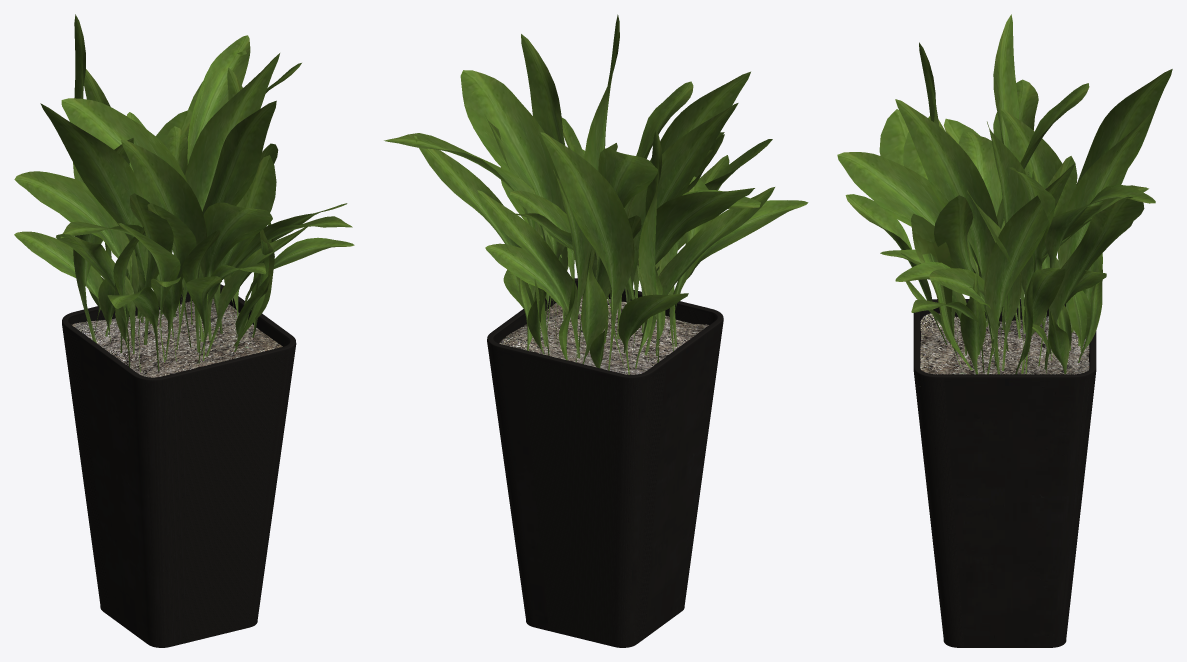
File: plant_tree_s1_snowism.glb
3 renders of one model, left to right at view 1: azimuth 30°, elevation 25°; view 2: azimuth 150°, elevation 25°; view 3: azimuth 270°, elevation 25°, orthographic.
Visible parts, largest first — view 1: Mesh1_M_06___Default_0, Mesh3_grt_0, Mesh2_TEXTURE1_0; view 2: Mesh3_grt_0, Mesh1_M_06___Default_0, Mesh2_TEXTURE1_0; view 3: Mesh3_grt_0, Mesh1_M_06___Default_0, Mesh2_TEXTURE1_0.
Boxes of the visible parts, box(x1,y1,x2,y2) form: Mesh1_M_06___Default_0: box(62, 284, 296, 647); Mesh3_grt_0: box(14, 14, 354, 372); Mesh2_TEXTURE1_0: box(72, 298, 293, 377); Mesh3_grt_0: box(384, 14, 808, 374); Mesh1_M_06___Default_0: box(487, 278, 723, 647); Mesh2_TEXTURE1_0: box(499, 295, 708, 374); Mesh3_grt_0: box(837, 14, 1172, 374); Mesh1_M_06___Default_0: box(913, 299, 1096, 647); Mesh2_TEXTURE1_0: box(919, 313, 1089, 386).
Size of the model in its own units: 6.72 by 11.69 by 6.51.
3 materials, 3 textured.
